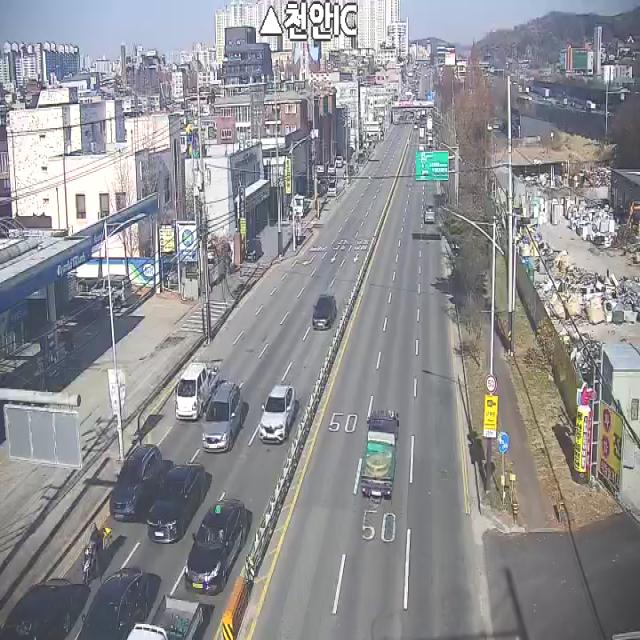Car: (185, 499, 247, 596), (77, 567, 147, 640), (147, 464, 205, 544), (0, 578, 73, 639), (110, 444, 162, 521), (202, 382, 243, 453), (259, 385, 295, 444), (90, 274, 132, 302), (240, 228, 268, 266), (312, 295, 337, 331), (425, 202, 435, 222)
Motorcycle: (78, 513, 116, 583)
Truck: (126, 593, 203, 640), (361, 411, 399, 498), (175, 362, 220, 420)
